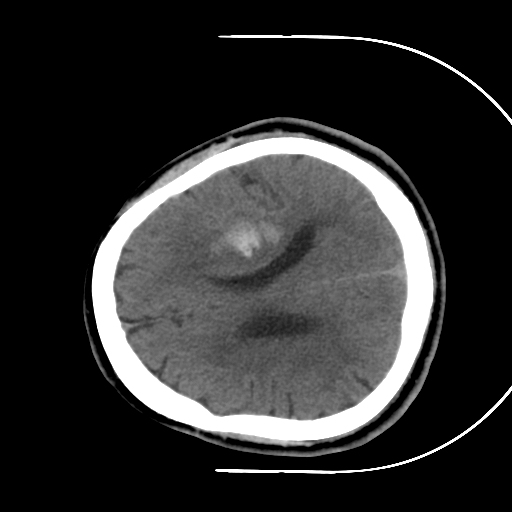a: (190, 204, 295, 275)
